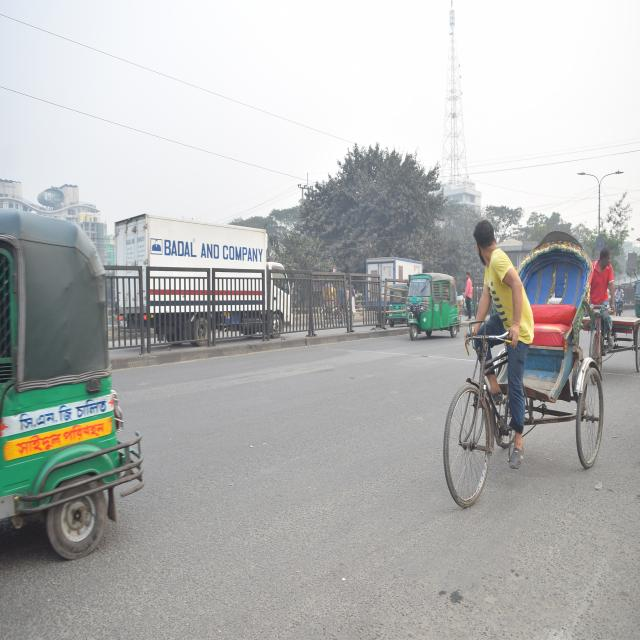pickup-van: (362, 252, 420, 318)
truck: (117, 217, 293, 347)
